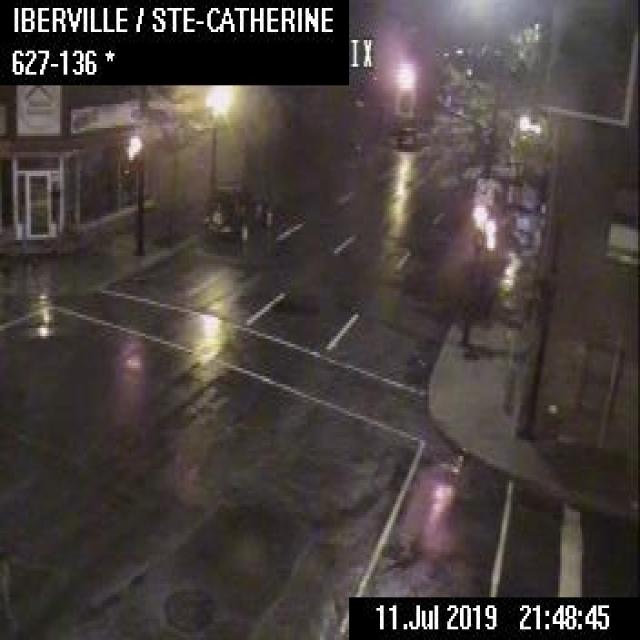vehicle: (198, 182, 273, 246), (393, 120, 424, 147)
